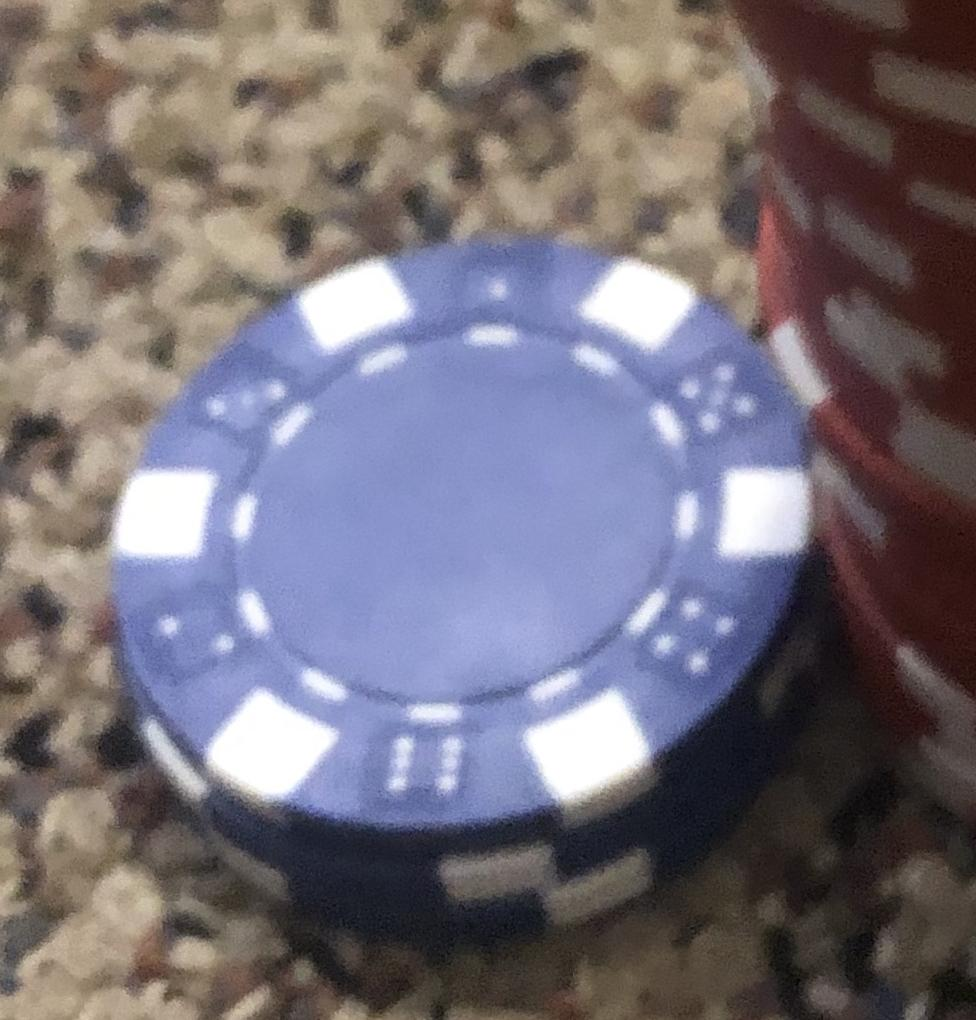Chip: (1, 1, 976, 1020)
